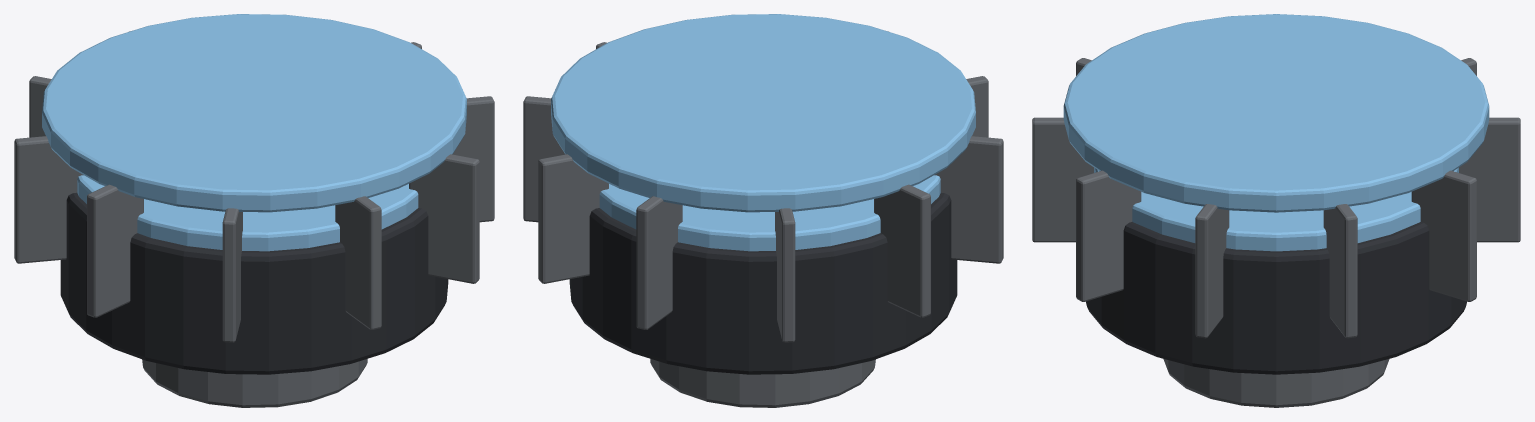
Rendered from module_core_thermal.fbx.
3 renders of one model, left to right at view 1: azimuth 30°, elevation 25°; view 2: azimuth 150°, elevation 25°; view 3: azimuth 270°, elevation 25°, orthographic.
Visible parts, largest first — view 1: SM_Module_CoreThermal; view 2: SM_Module_CoreThermal; view 3: SM_Module_CoreThermal.
Part boxes in pixels (<box>): SM_Module_CoreThermal: <box>14,14,494,407</box>; SM_Module_CoreThermal: <box>523,14,1003,407</box>; SM_Module_CoreThermal: <box>1032,14,1520,407</box>.
Size of what is drawn, in the model's own units: 34.9 by 21.4 by 36.5.
